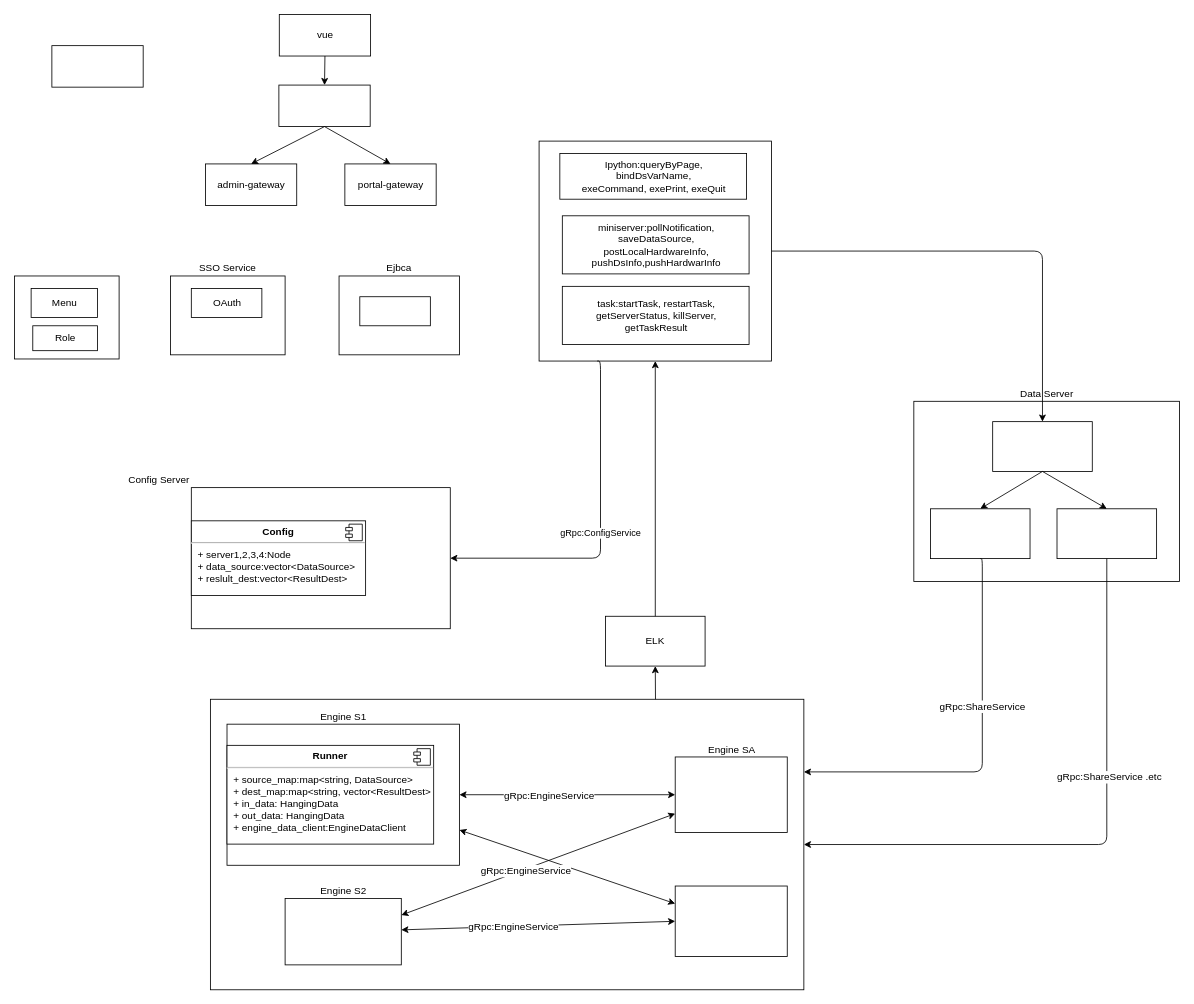
Some shapes in this 1194 by 1004 pixel diagram are drawn without their labels. Each missing label, with the box of its shape:
Ca: (359, 296, 430, 326)
Client Service: (1056, 508, 1157, 559)
Data Service: (930, 508, 1030, 559)
Debug Web Service: (992, 421, 1092, 471)
Engine SB: (674, 885, 787, 957)
Engine Server: (210, 698, 804, 990)
Eureka: (51, 45, 143, 87)
nginx: (278, 84, 370, 127)
Permision Manage Server: (14, 275, 119, 359)
Task Manager Server: (538, 140, 771, 361)
